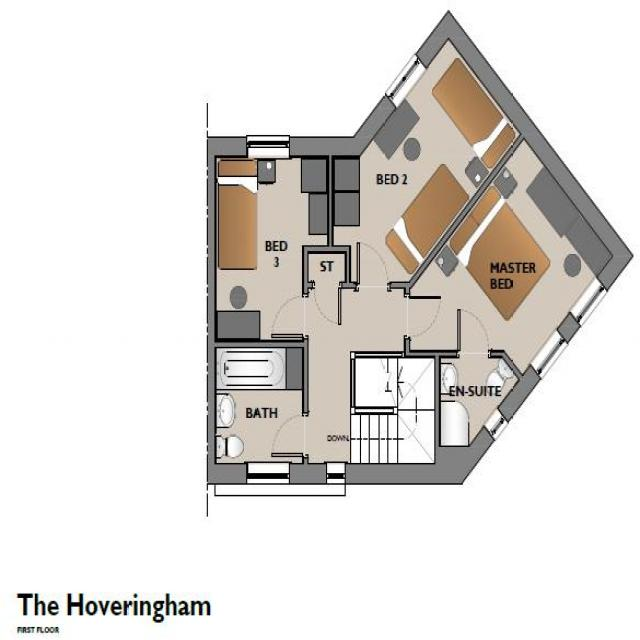DOOR: (456, 307, 492, 360), (402, 294, 443, 340), (270, 412, 310, 459), (271, 293, 310, 340), (356, 240, 390, 289), (311, 279, 343, 327)
ROOM: (403, 117, 634, 396), (330, 8, 536, 291), (204, 135, 330, 350)
WINDOW: (383, 50, 429, 113), (565, 272, 610, 330), (528, 326, 570, 383), (246, 134, 290, 161), (481, 405, 511, 444), (246, 460, 291, 485), (326, 461, 346, 485)
